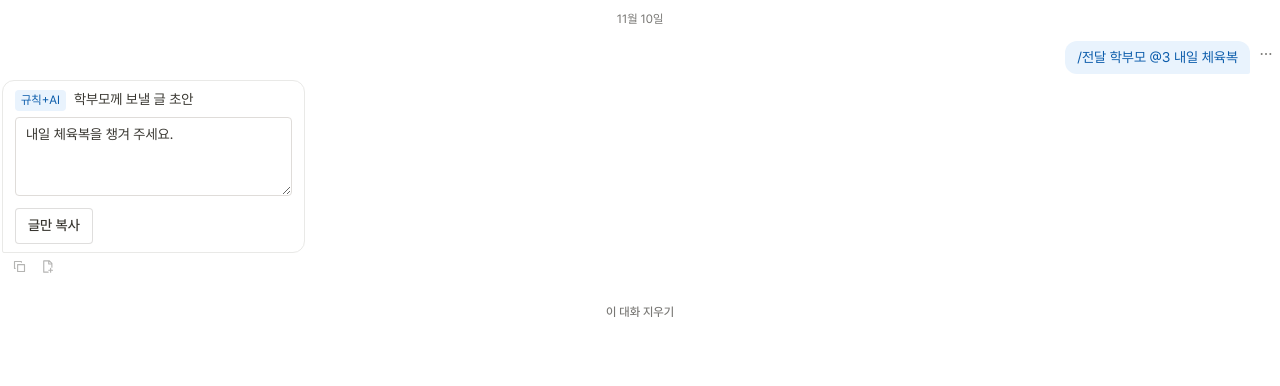
Test: AI 대답 카드의 "노트로": 입력·대답(초안 글)을 새 노트로
Click the button named "노트로": coordinates (47, 267) [34,255,60,279]
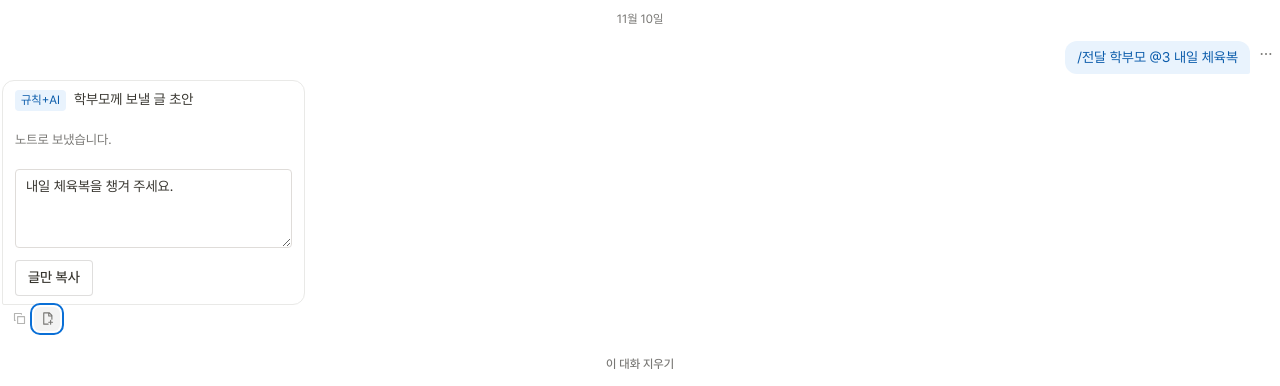
Expected: the text "학부모께 보낼 글 초안" is shown, [74,89,193,111]
Result: the text "노트로 보냈습니다." is shown at [15,132,112,147]
